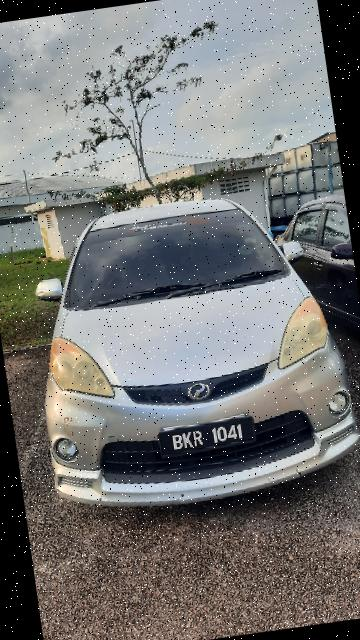License_Plate: (142, 408, 262, 468)
car: (7, 177, 360, 532)
